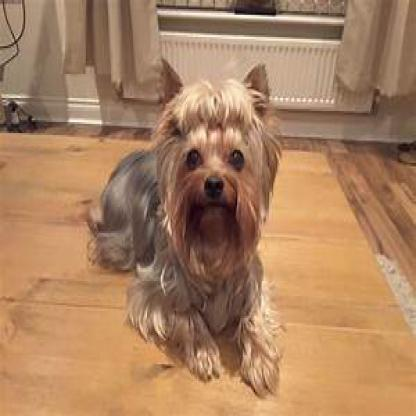dog: (83, 70, 300, 396)
